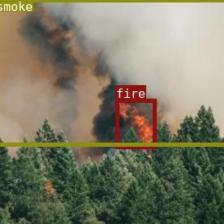fire: (116, 98, 156, 148)
smoke: (0, 0, 224, 146)
